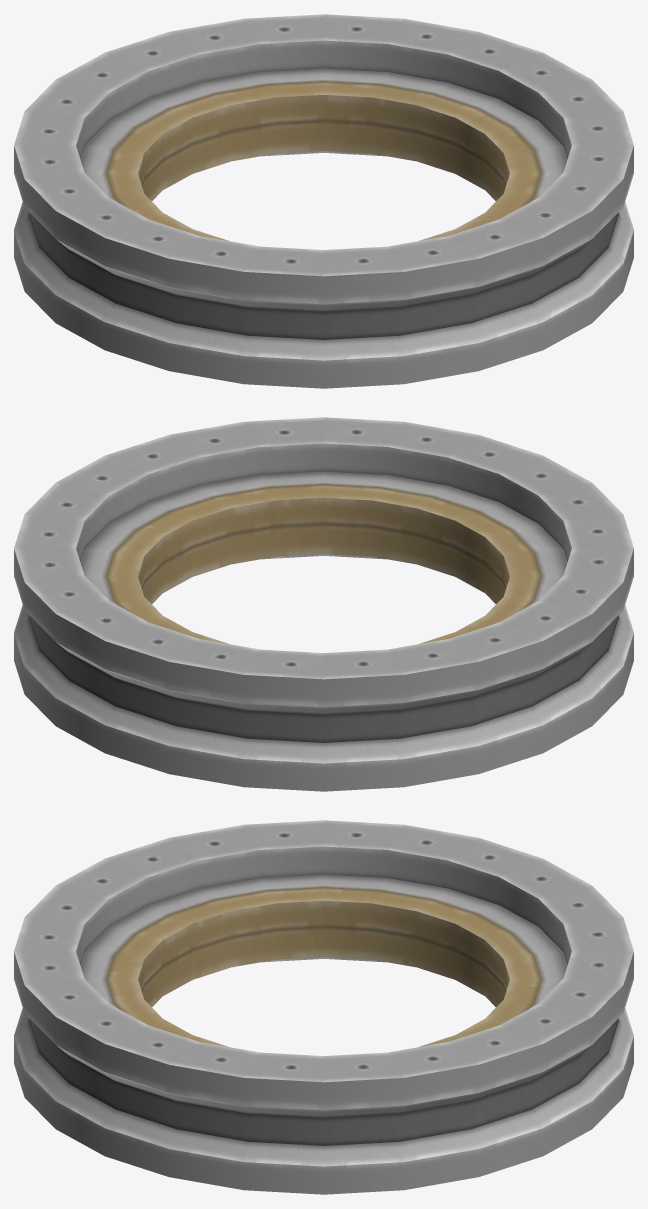
Rendered from Castor_Decoupler_1_N.obj.
3 renders of one model, top to bottom at view 1: azimuth 30°, elevation 25°; view 2: azimuth 150°, elevation 25°; view 3: azimuth 270°, elevation 25°, orthographic.
Visible parts, largest first — view 1: Castor_Decoupler_1_N; view 2: Castor_Decoupler_1_N; view 3: Castor_Decoupler_1_N.
Boxes of the visible parts, <box> form: Castor_Decoupler_1_N: <box>14,14,633,388</box>; Castor_Decoupler_1_N: <box>14,417,633,791</box>; Castor_Decoupler_1_N: <box>14,820,633,1194</box>.
Size of the model in its own units: 0.625 by 0.125 by 0.625.
